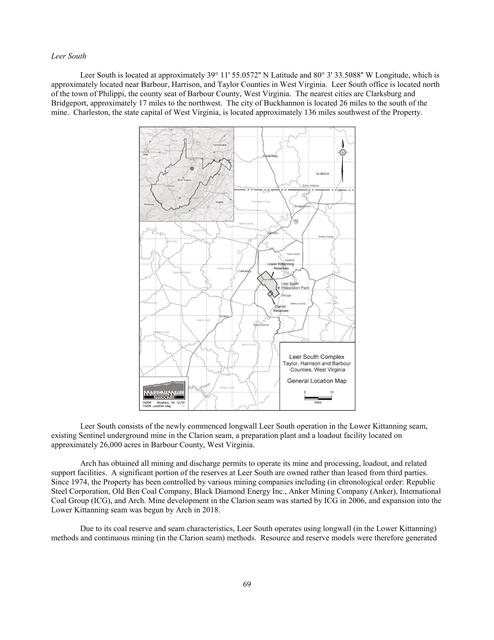box: (137, 123, 357, 413)
